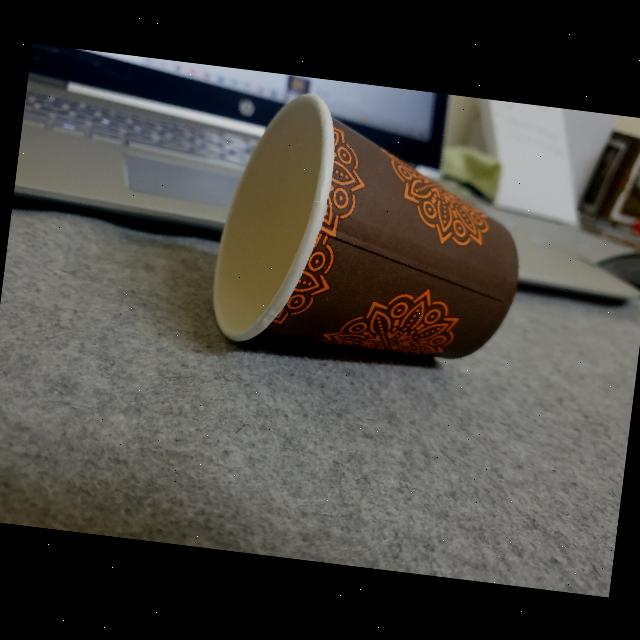trash: (192, 77, 544, 386)
